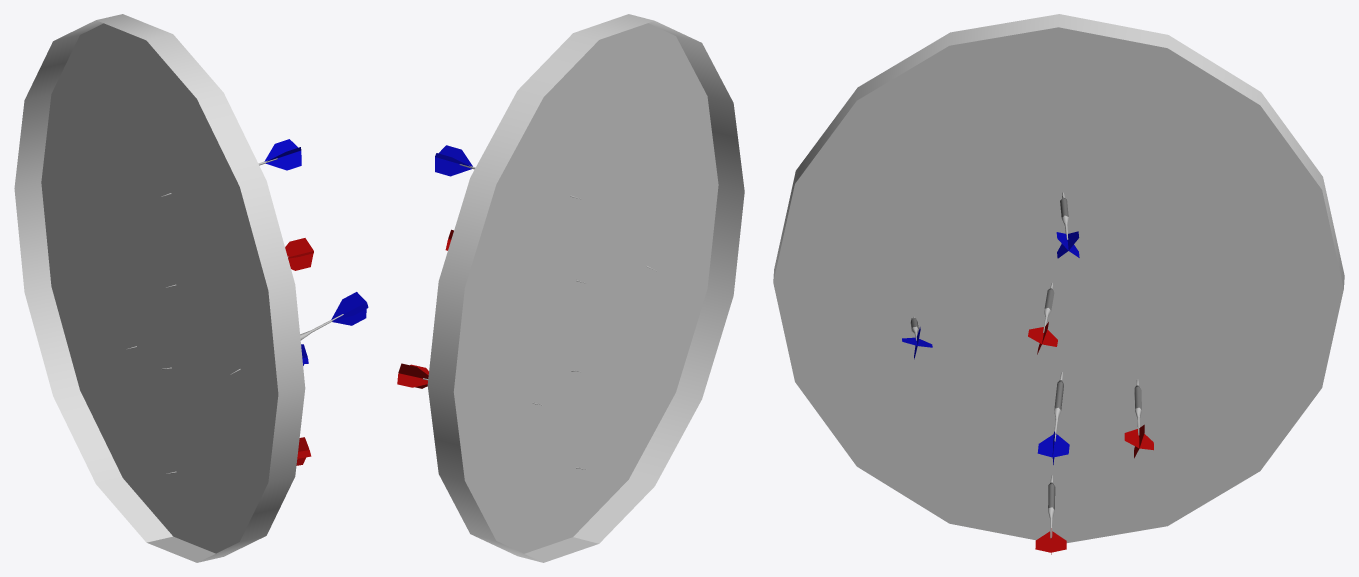
3 views of the same model, side by side, from view 1: azimuth 30°, elevation 25°; view 2: azimuth 150°, elevation 25°; view 3: azimuth 270°, elevation 25° (orthographic). The views are drawn at different scales.
Visible parts, largest first — view 1: Object_6.005; view 2: Object_6.005; view 3: Object_6.005.
Part boxes in pixels (x1,y1,x2,y2): Object_6.005: (14,14,368,562); Object_6.005: (397,14,744,562); Object_6.005: (773,14,1344,554).
Bounding box in the file's own units: 33.11 × 94.78 × 94.89.
